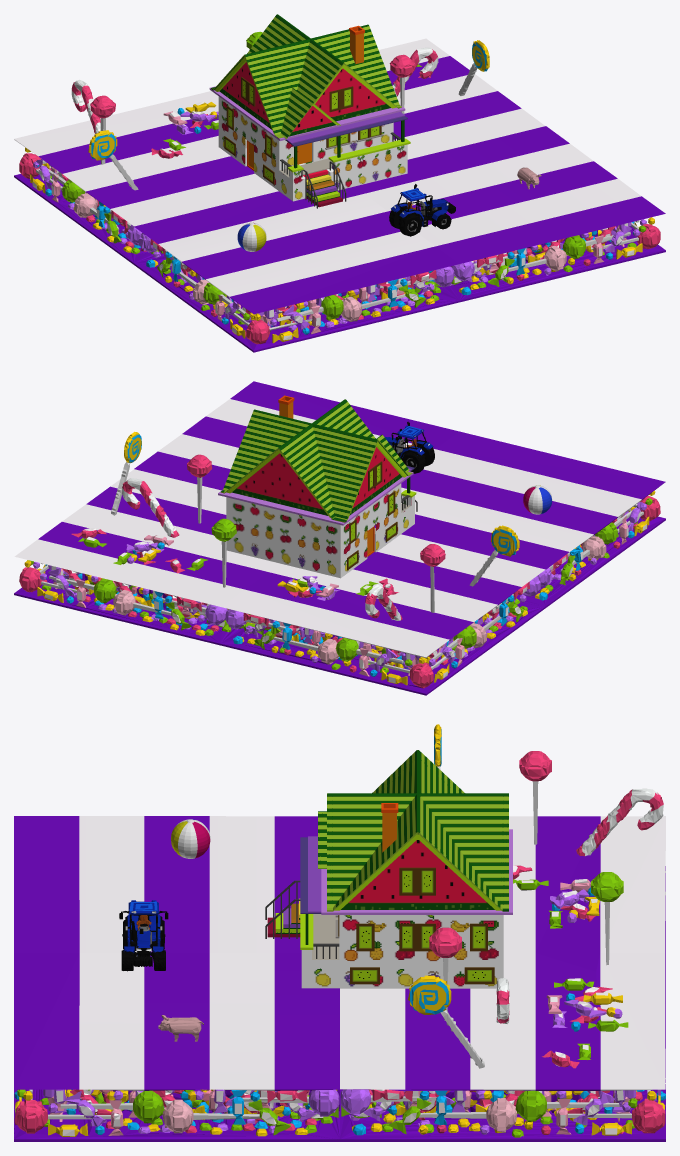
3 renders of one model, top to bottom at view 1: azimuth 30°, elevation 25°; view 2: azimuth 150°, elevation 25°; view 3: azimuth 270°, elevation 25°, orthographic. The views are drawn at different scales.
Visible parts, largest first — view 1: TERRAIN_CANDY, Cube.1063, VEHICLES_TRACTOR, OBJRANDOM_BEACHBALL; view 2: TERRAIN_CANDY, Cube.1063, VEHICLES_TRACTOR, OBJRANDOM_BEACHBALL; view 3: TERRAIN_CANDY, Cube.1063, VEHICLES_TRACTOR, OBJRANDOM_BEACHBALL, ANIMAL_CERDO.
Part boxes in pixels (box(x1,y1,x2,y2)): TERRAIN_CANDY: box(14, 31, 665, 352); Cube.1063: box(209, 14, 410, 208); VEHICLES_TRACTOR: box(389, 184, 455, 236); OBJRANDOM_BEACHBALL: box(237, 222, 266, 251); TERRAIN_CANDY: box(14, 381, 665, 695); Cube.1063: box(218, 395, 417, 578); VEHICLES_TRACTOR: box(384, 421, 434, 473); OBJRANDOM_BEACHBALL: box(523, 485, 552, 514); TERRAIN_CANDY: box(14, 724, 665, 1141); Cube.1063: box(265, 750, 512, 988); VEHICLES_TRACTOR: box(119, 900, 168, 971); OBJRANDOM_BEACHBALL: box(171, 819, 210, 858); ANIMAL_CERDO: box(158, 1015, 203, 1041).
Bounding box in the file's own units: 4059 × 1584 × 4000.
Materials: 27 (4 with a texture image).
